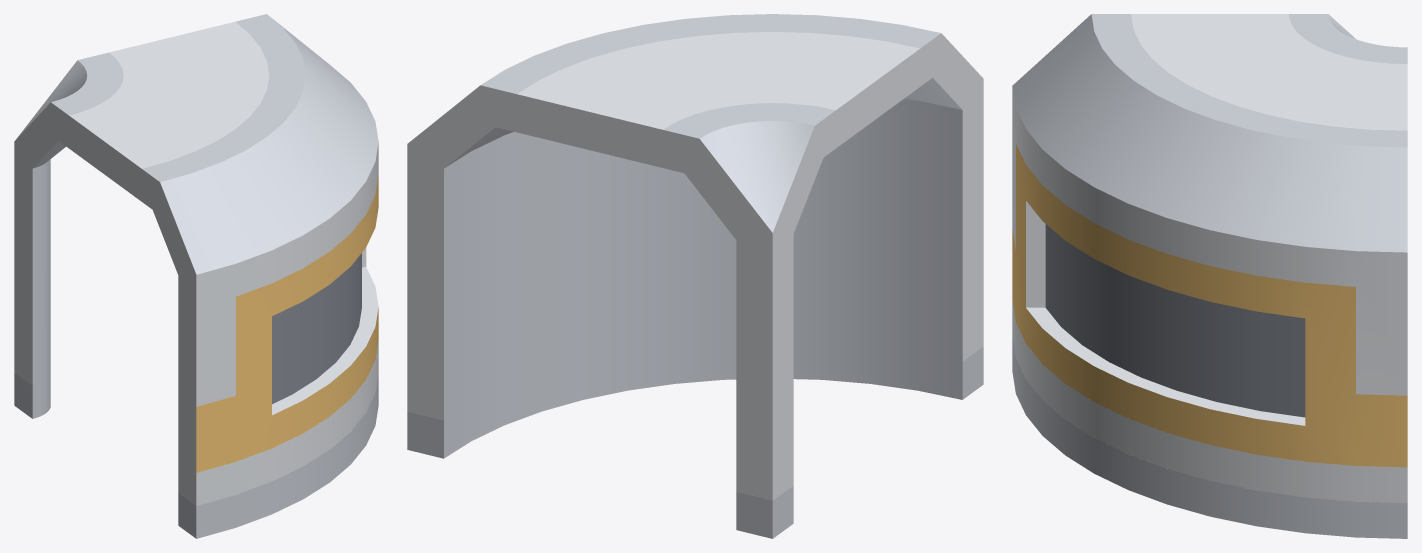
File: corridor_cornerRoundWindow.glb
3 renders of one model, left to right at view 1: azimuth 30°, elevation 25°; view 2: azimuth 150°, elevation 25°; view 3: azimuth 270°, elevation 25°, orthographic. The views are drawn at different scales.
Visible parts, largest first — view 1: corridor_cornerRoundWindow; view 2: corridor_cornerRoundWindow; view 3: corridor_cornerRoundWindow.
Part boxes in pixels (x1,y1,x2,y2): corridor_cornerRoundWindow: [14, 14, 378, 538]; corridor_cornerRoundWindow: [407, 14, 983, 538]; corridor_cornerRoundWindow: [1012, 14, 1407, 538].
Bounding box in the file's own units: 1 × 1 × 1.
